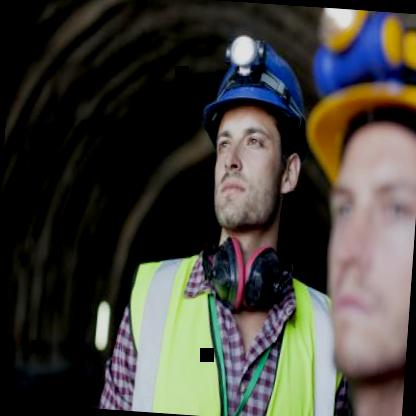helmet: (292, 16, 416, 391), (186, 45, 310, 253)
